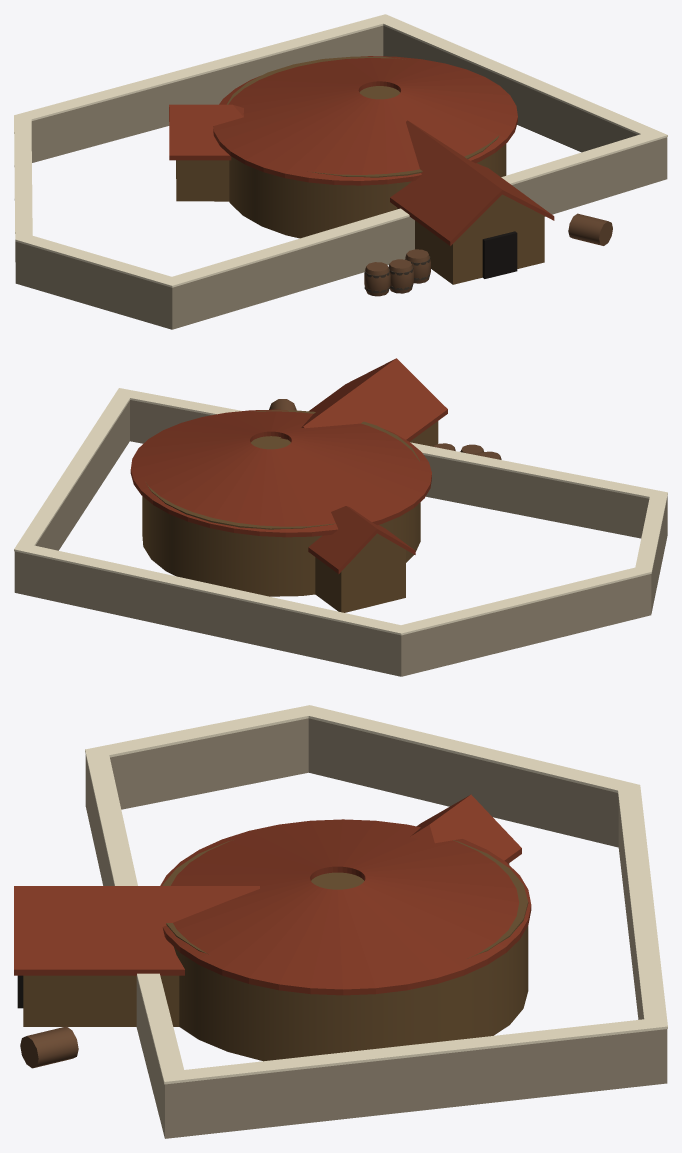
The model's file is VerBuild02.glb.
3 renders of one model, top to bottom at view 1: azimuth 30°, elevation 25°; view 2: azimuth 150°, elevation 25°; view 3: azimuth 270°, elevation 25°, orthographic. The views are drawn at different scales.
Visible parts, largest first — view 1: VerBuild02_roof; view 2: VerBuild02_roof; view 3: VerBuild02_roof.
Part boxes in pixels (x1,y1,x2,y2): VerBuild02_roof: (14,14,667,329); VerBuild02_roof: (14,358,667,676); VerBuild02_roof: (14,705,667,1138).
Size of the model in its own units: 14.63 by 2.2 by 10.73.
